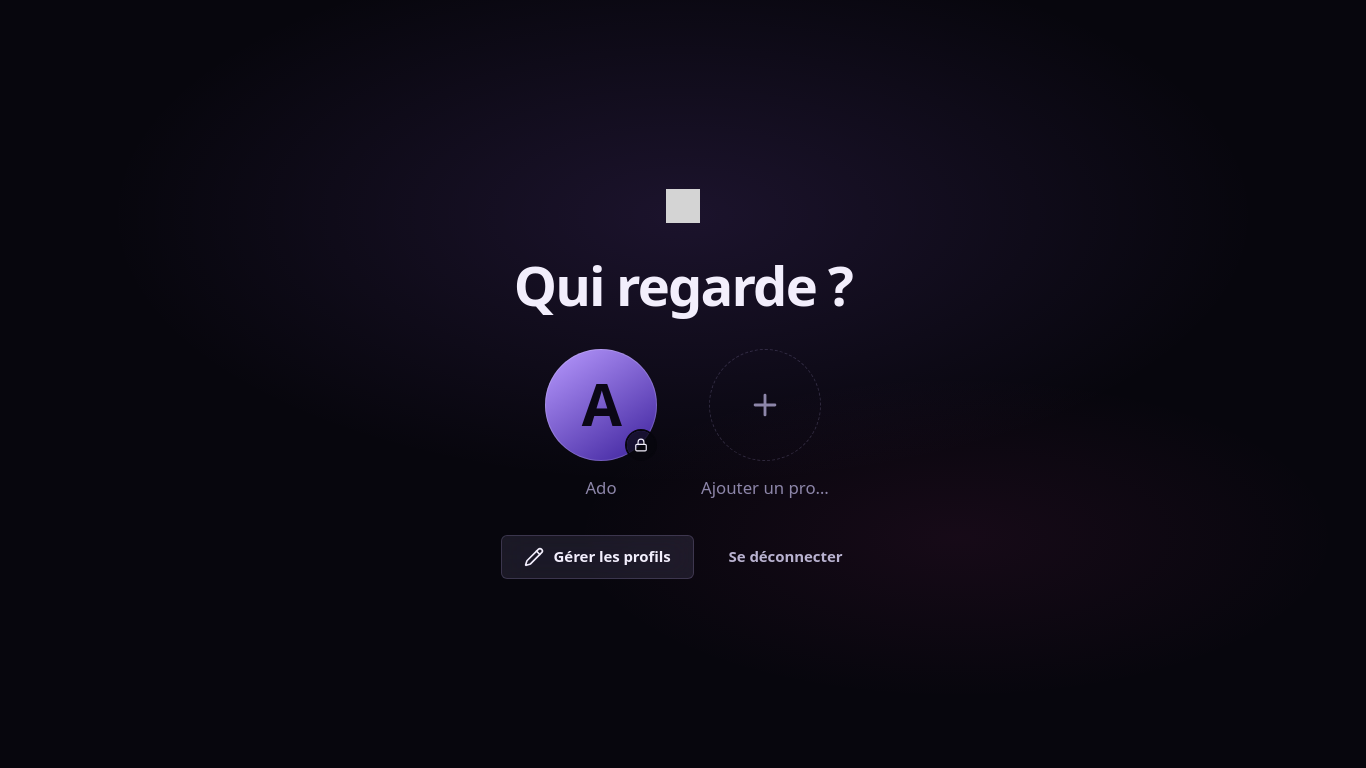
Test: ProfilesPage › demande le code avant d'ouvrir un profil protégé, et affiche une erreur si le code est mauvais
This screenshot has width=1366, height=768.
Click the button with aria-label "Regarder en tant que Ado" at (601, 424), box [537, 348, 665, 500]
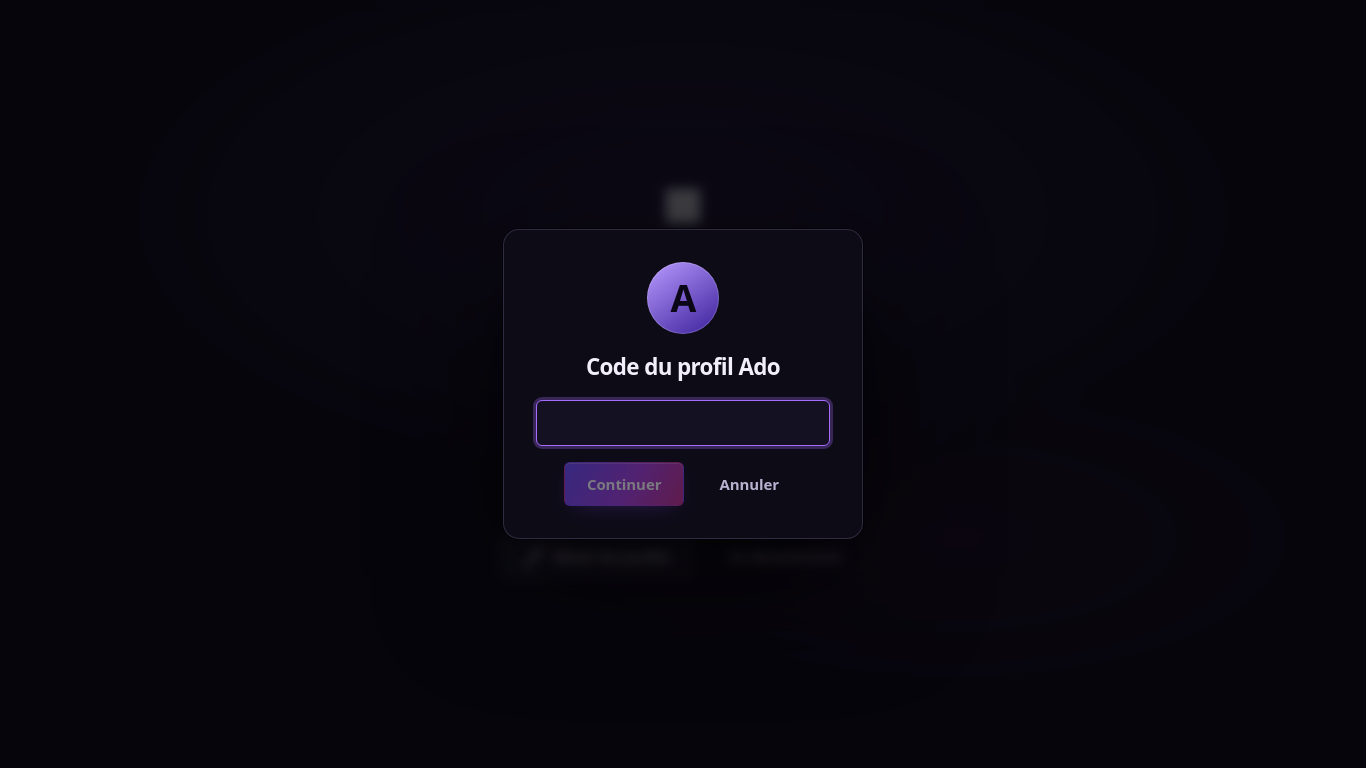
Type "0000" into the password field named "Code" at (683, 423), box [536, 400, 830, 446]
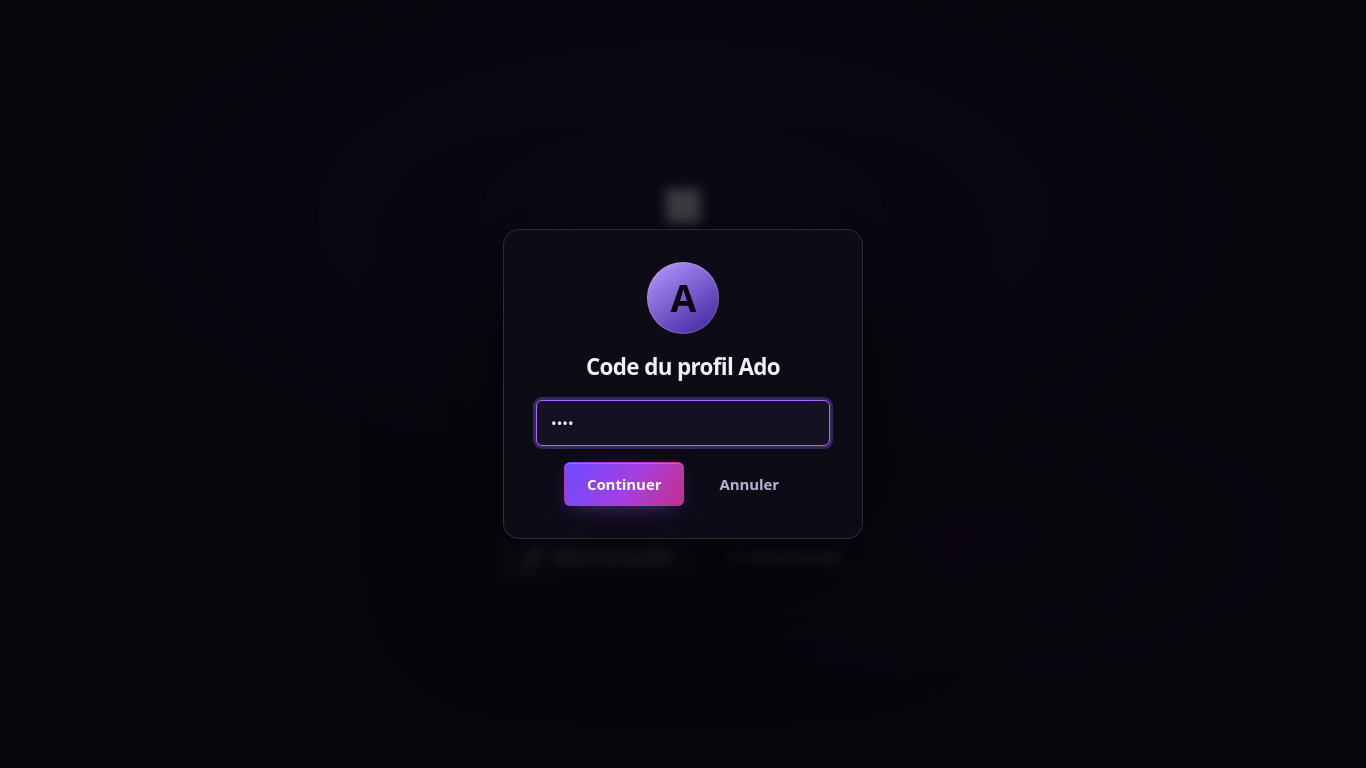
Click the button "Continuer" at (624, 484), box [564, 462, 684, 506]
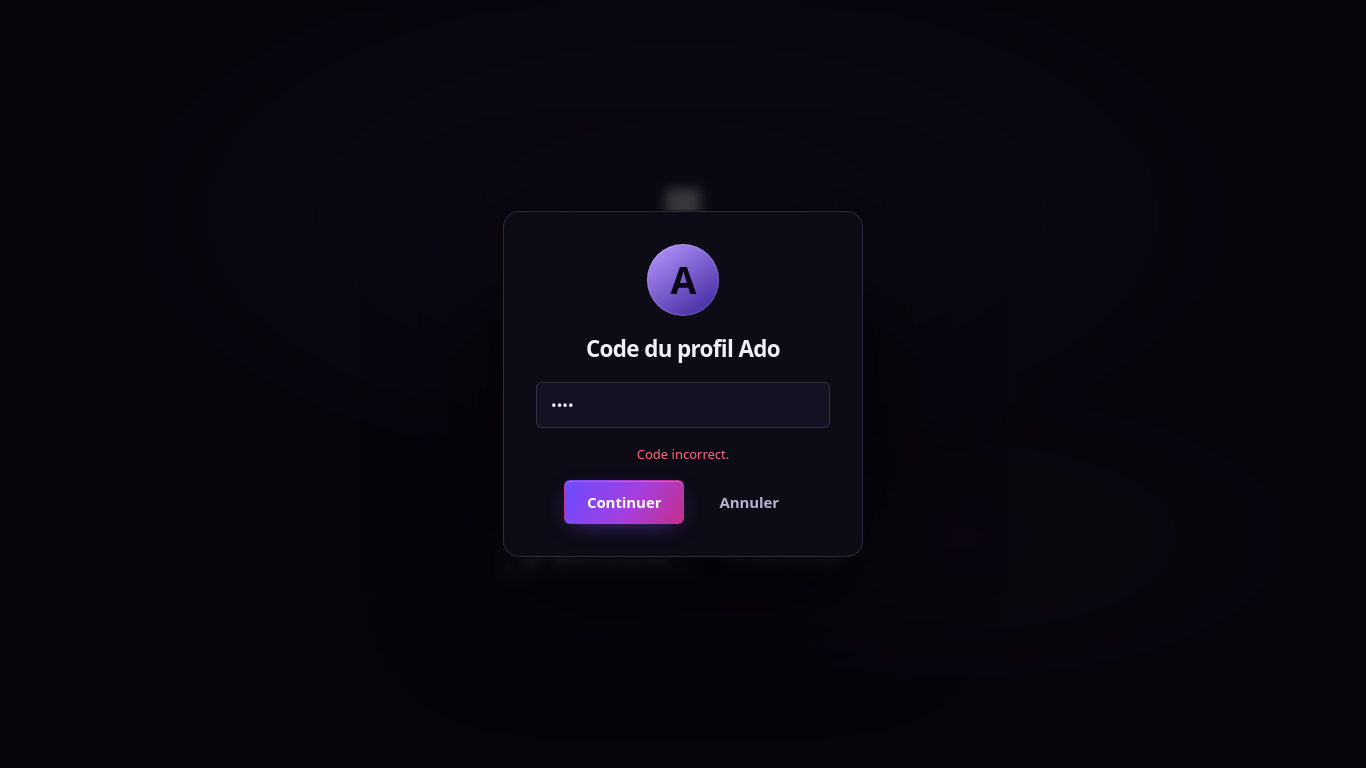
Expected: the text "Code incorrect." is shown, [637, 445, 729, 463]
